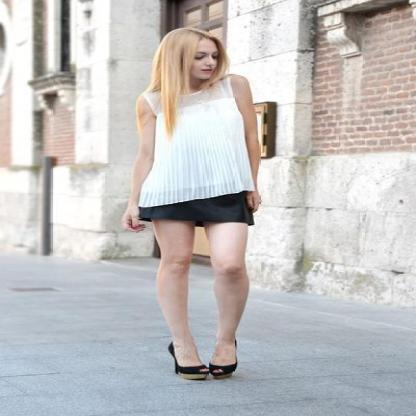shirt: (138, 78, 260, 207)
shoe: (174, 358, 236, 382)
skirt: (138, 191, 256, 226)
